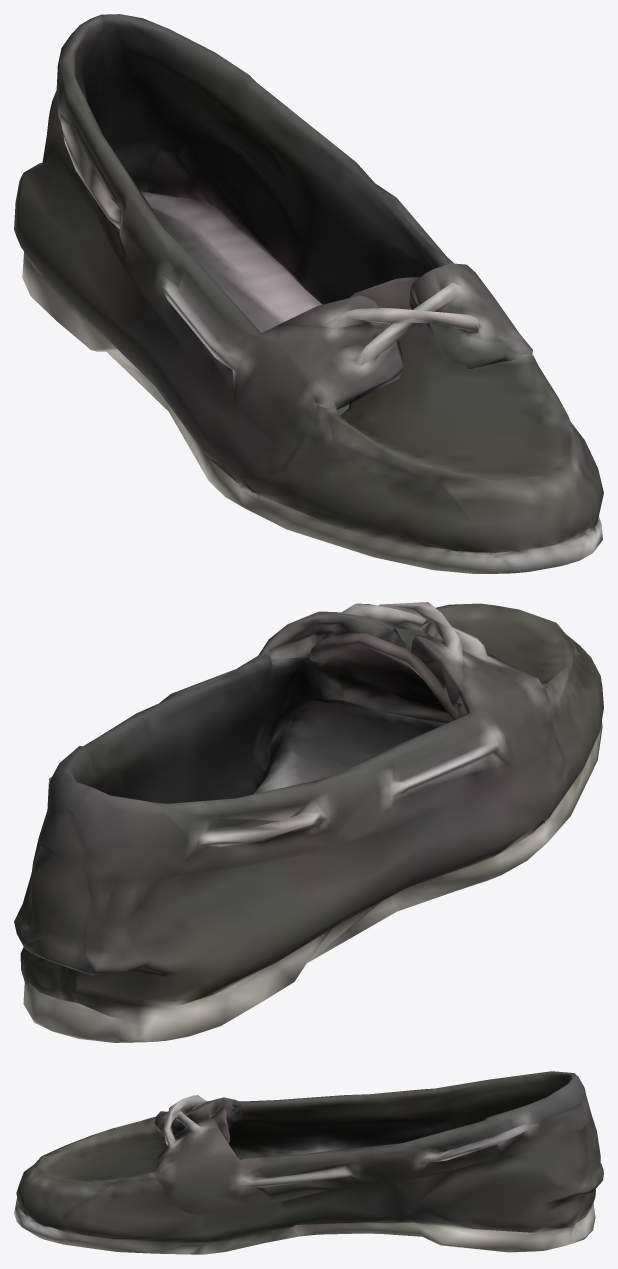
Rendered from Womens_Audrey_Slip_On_Boat_Shoe_in_Graphite_Nubuck_xWVkCJ5vxZe-medium.glb.
3 renders of one model, top to bottom at view 1: azimuth 30°, elevation 25°; view 2: azimuth 150°, elevation 25°; view 3: azimuth 270°, elevation 25°, orthographic. The views are drawn at different scales.
Parts seen in each view (by area): view 1: Womens_Audrey_Slip_On_Boat_Shoe_in_Graphite_Nubuck_xWVkCJ5vx; view 2: Womens_Audrey_Slip_On_Boat_Shoe_in_Graphite_Nubuck_xWVkCJ5vx; view 3: Womens_Audrey_Slip_On_Boat_Shoe_in_Graphite_Nubuck_xWVkCJ5vx.
Part boxes in pixels (x1,y1,x2,y2): Womens_Audrey_Slip_On_Boat_Shoe_in_Graphite_Nubuck_xWVkCJ5vx: [14, 14, 603, 573]; Womens_Audrey_Slip_On_Boat_Shoe_in_Graphite_Nubuck_xWVkCJ5vx: [14, 602, 603, 1042]; Womens_Audrey_Slip_On_Boat_Shoe_in_Graphite_Nubuck_xWVkCJ5vx: [14, 1071, 603, 1254].
Bounding box in the file's own units: 0.0826 × 0.0706 × 0.2484.
Materials: 1 (1 with a texture image).
